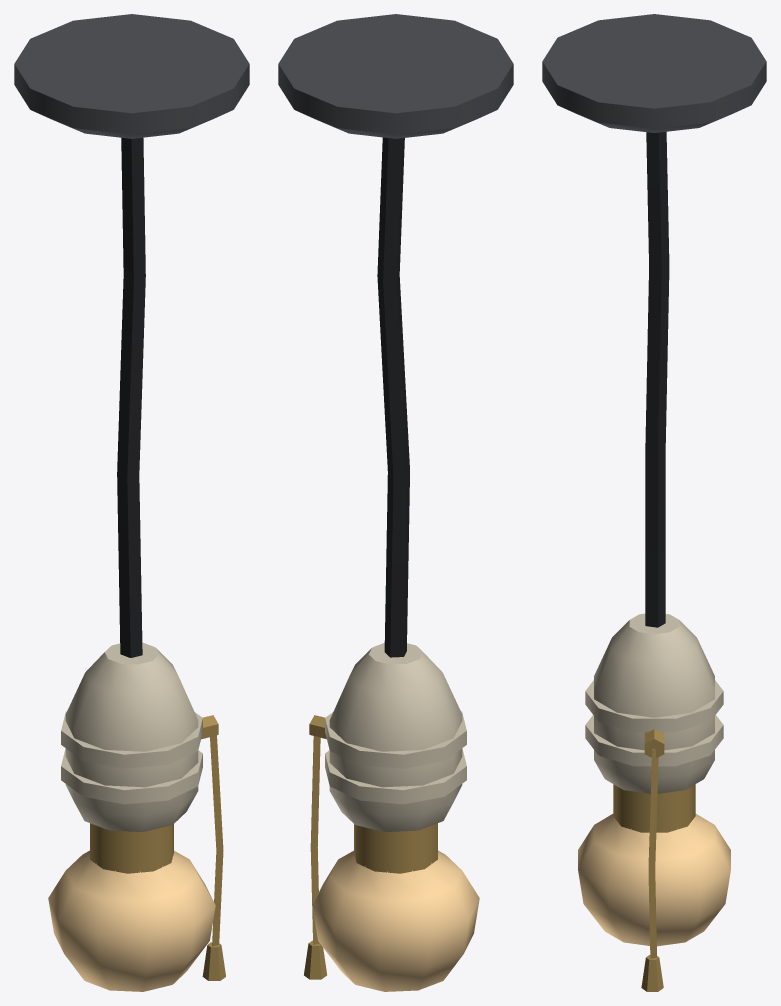
File: Basement_HangingBulb.fbx
The picture shows the model from 3 angles, left to right: view 1: azimuth 30°, elevation 25°; view 2: azimuth 150°, elevation 25°; view 3: azimuth 270°, elevation 25°; orthographic projection. The views are drawn at different scales.
Visible parts, largest first — view 1: Cover, Holder, Bulb, Cord, Brass; view 2: Cover, Holder, Bulb, Cord, Brass; view 3: Cover, Holder, Bulb, Cord, Brass.
Part boxes in pixels (x1=…): Cover: x1=14, y1=14, x2=249, y2=138; Holder: x1=61, y1=642, x2=202, y2=831; Bulb: x1=48, y1=850, x2=215, y2=991; Cord: x1=117, y1=137, x2=145, y2=657; Brass: x1=90, y1=715, x2=225, y2=980; Cover: x1=278, y1=14, x2=513, y2=138; Holder: x1=325, y1=643, x2=466, y2=831; Bulb: x1=312, y1=850, x2=479, y2=991; Cord: x1=377, y1=137, x2=409, y2=657; Brass: x1=304, y1=715, x2=437, y2=979; Cover: x1=542, y1=14, x2=766, y2=132; Holder: x1=585, y1=613, x2=723, y2=793; Bulb: x1=578, y1=814, x2=730, y2=946; Cord: x1=645, y1=131, x2=669, y2=627; Brass: x1=613, y1=729, x2=695, y2=991.
Bounding box in the file's own units: 60 × 263 × 60.
